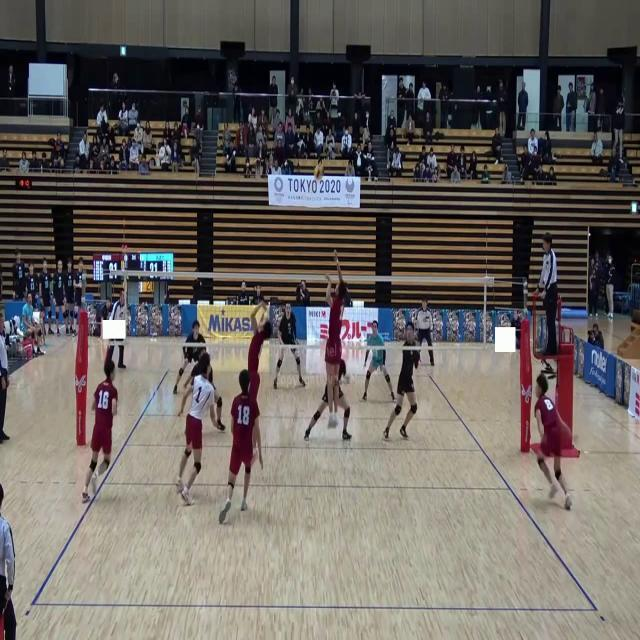volleyball: (313, 164, 324, 180)
